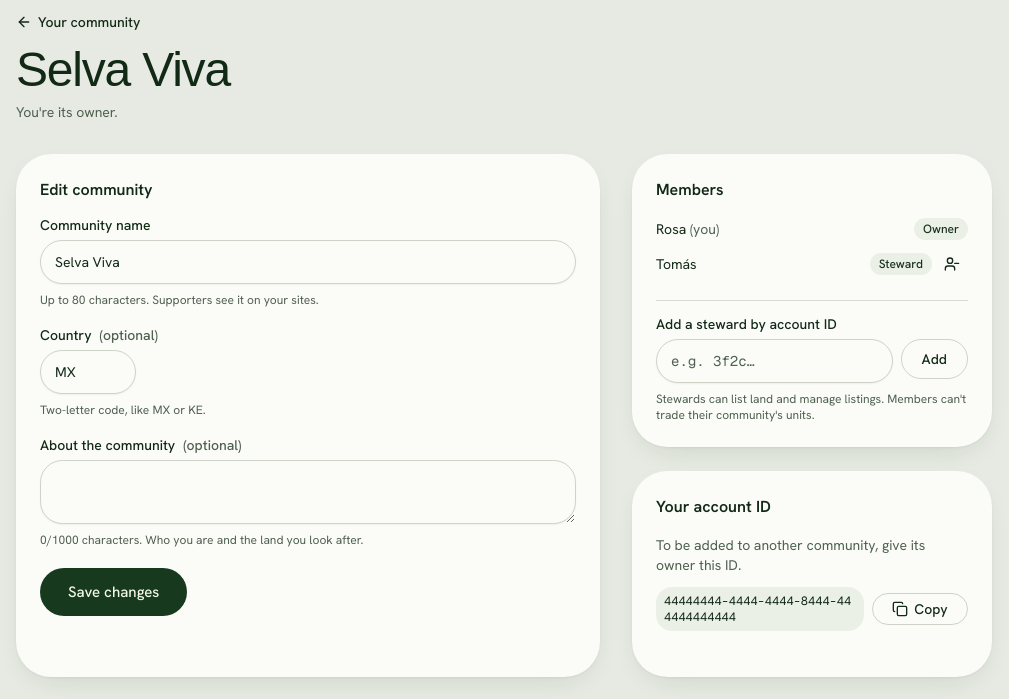
community settings › lets the owner edit the community, sending only what changed
Replace the text in the field labelled "Community name" with "Selva Viva Norte" at (308, 262), box [40,240,576,284]
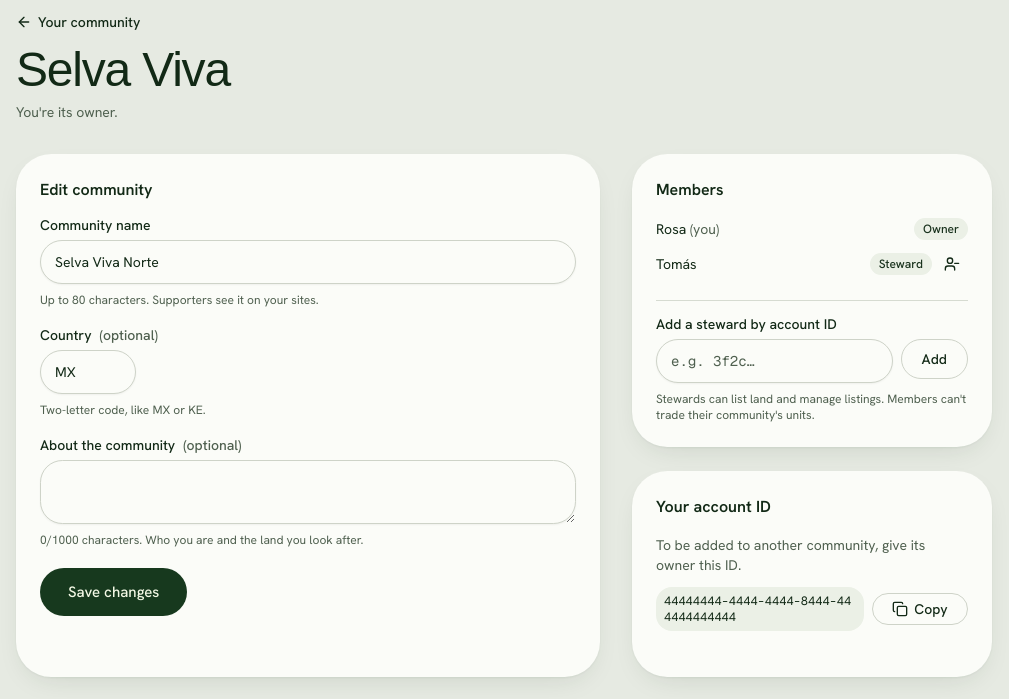
Click the button "Save changes" at (114, 592), box [40,568,187,616]
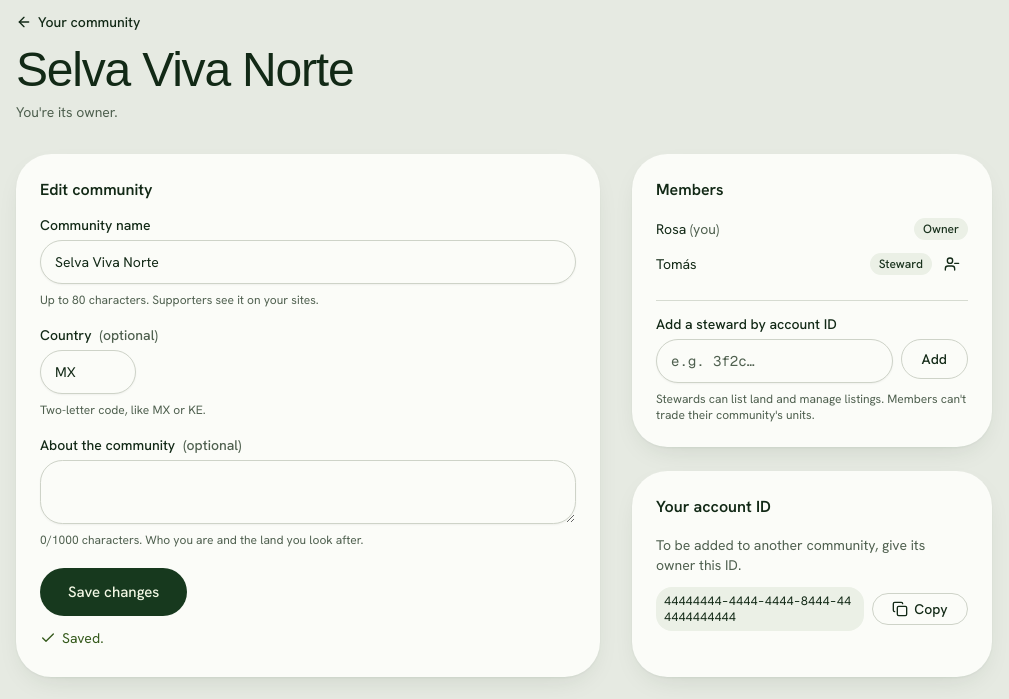
expect the text "Saved." is shown: met, box [40,629,104,647]
"Saved." goes once the form changes again.
Replace the text in the field labelled "Community name" with "Selva" at (308, 262), box [40,240,576,284]
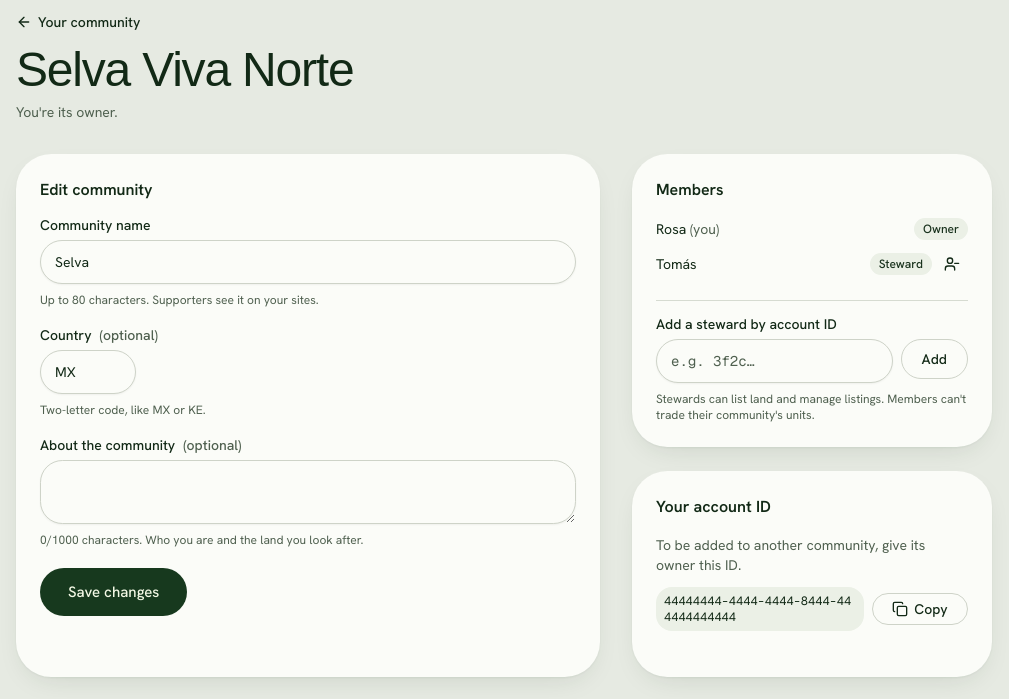
expect the text "Tomás" is shown: met, box [656,254,697,274]
expect the text "Saved." is gone: met
